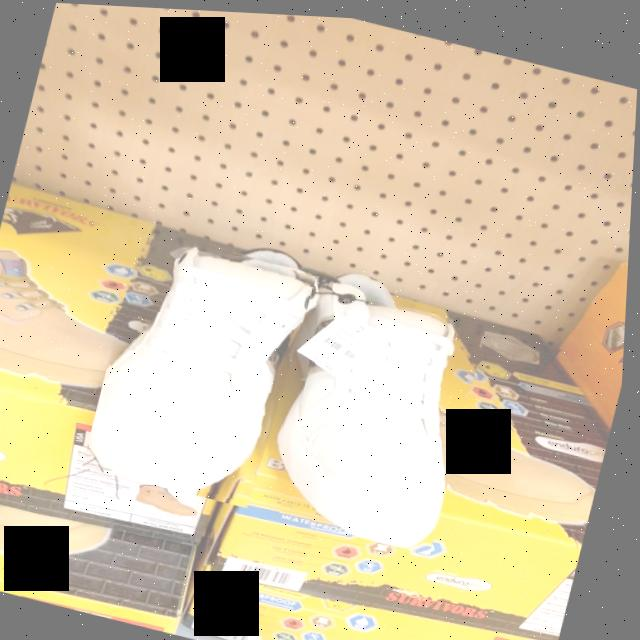shoe: (93, 247, 314, 490), (282, 291, 459, 544)
